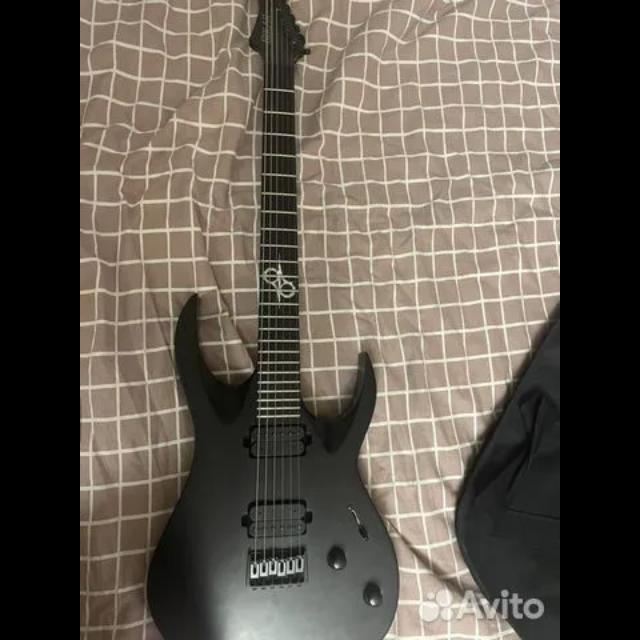Electric-Guitar: (148, 0, 400, 640)
